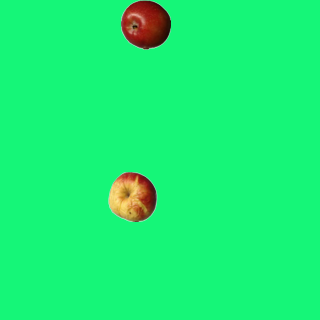Apple Braeburn: (120, 0, 170, 49)
Apple Red Yellow 1: (107, 171, 157, 221)
